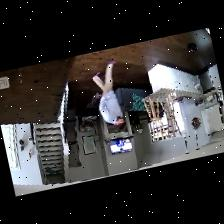person: (93, 60, 125, 128), (116, 139, 124, 150)
